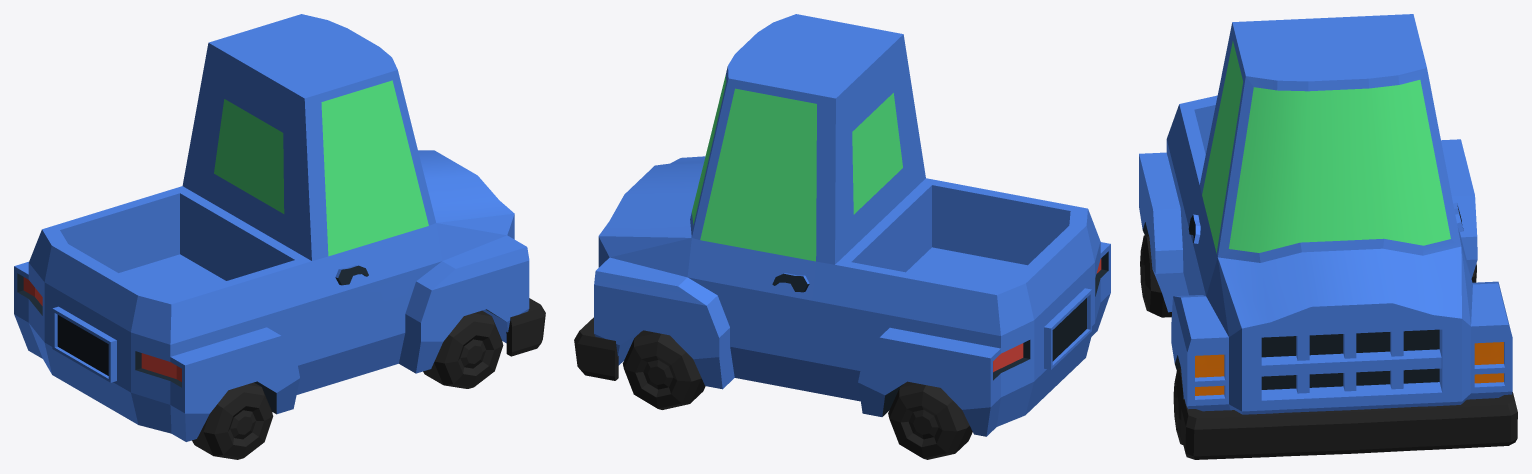
The model's file is ToyObject_106.fbx.
The picture shows the model from 3 angles, left to right: view 1: azimuth 30°, elevation 25°; view 2: azimuth 150°, elevation 25°; view 3: azimuth 270°, elevation 25°; orthographic projection. The views are drawn at different scales.
Visible parts, largest first — view 1: 1.014; view 2: 1.014; view 3: 1.014.
Part boxes in pixels (x1=…): 1.014: x1=14, y1=14, x2=545, y2=459; 1.014: x1=574, y1=14, x2=1110, y2=459; 1.014: x1=1139, y1=14, x2=1517, y2=459.
Bounding box in the file's own units: 0.1947 × 0.1377 × 0.1357.
Materials: 2 (1 with a texture image).
